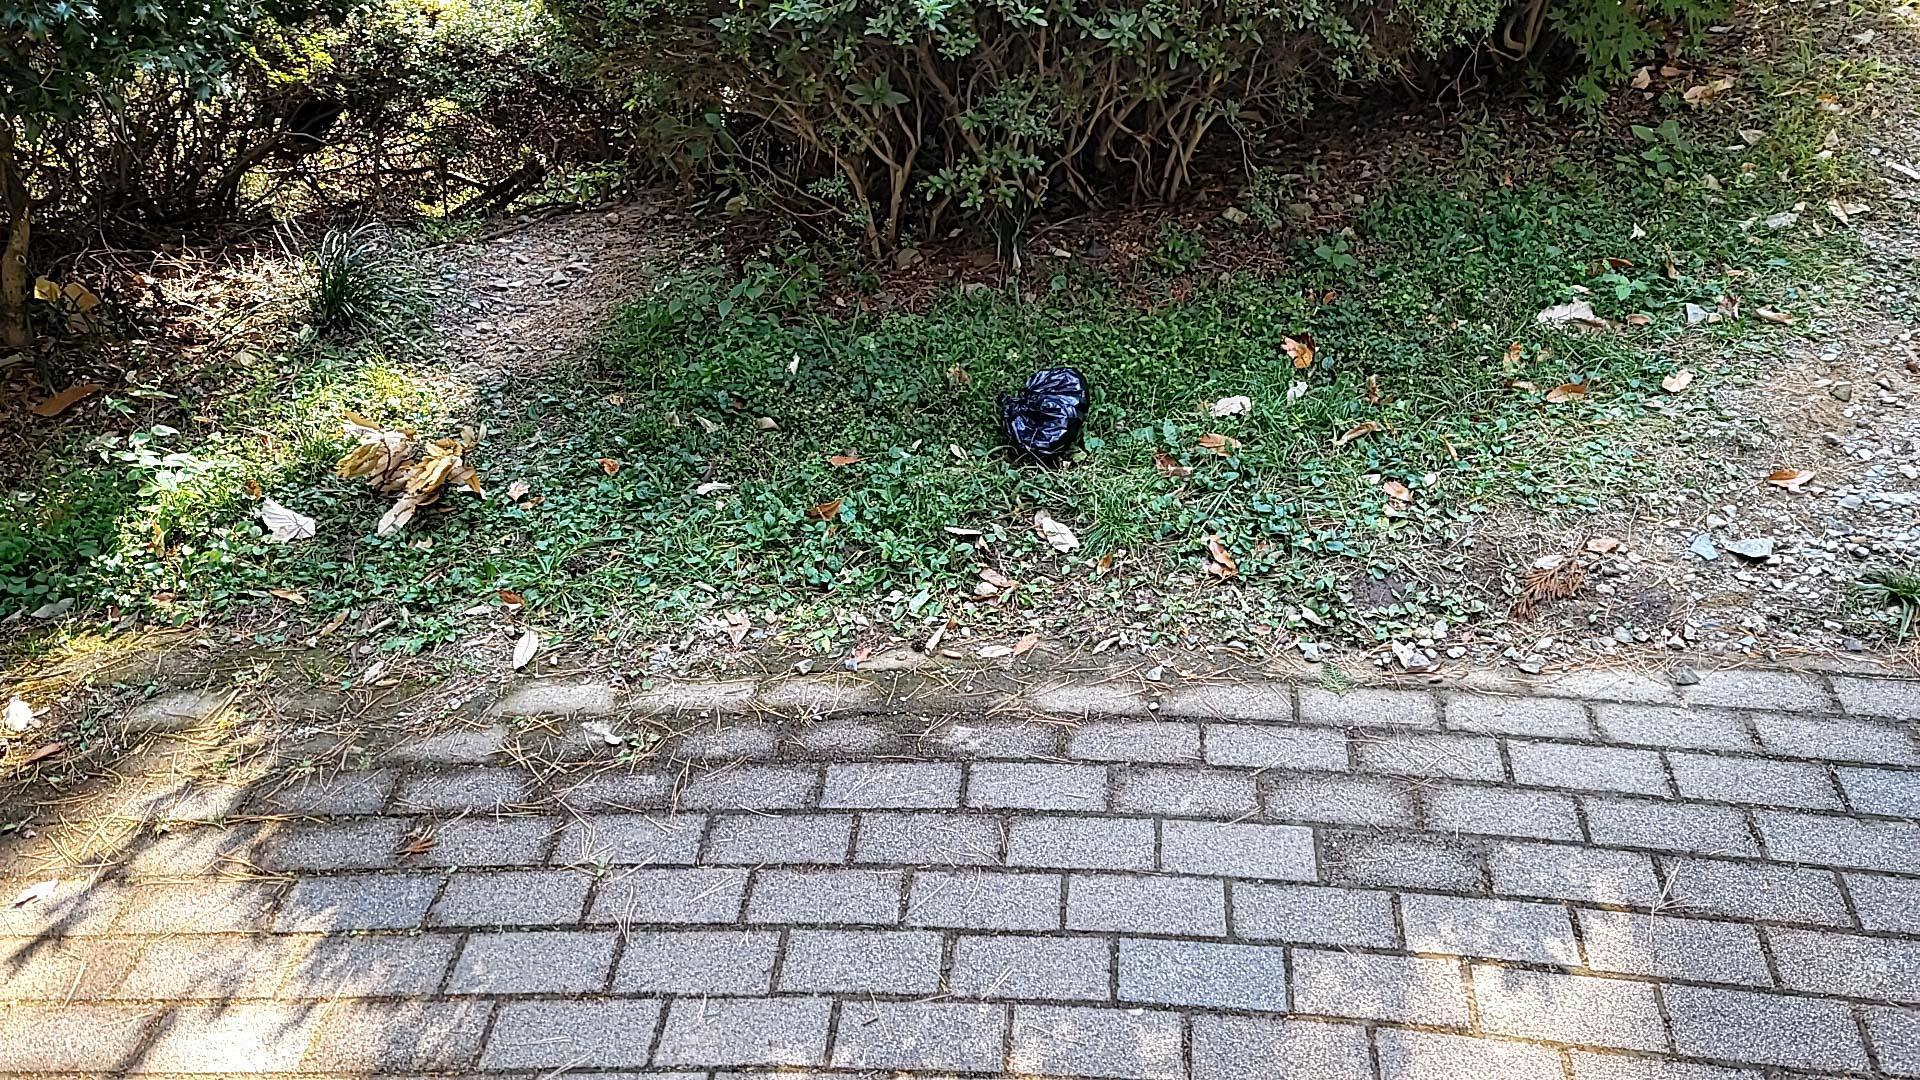black_bag: (988, 365, 1091, 462)
